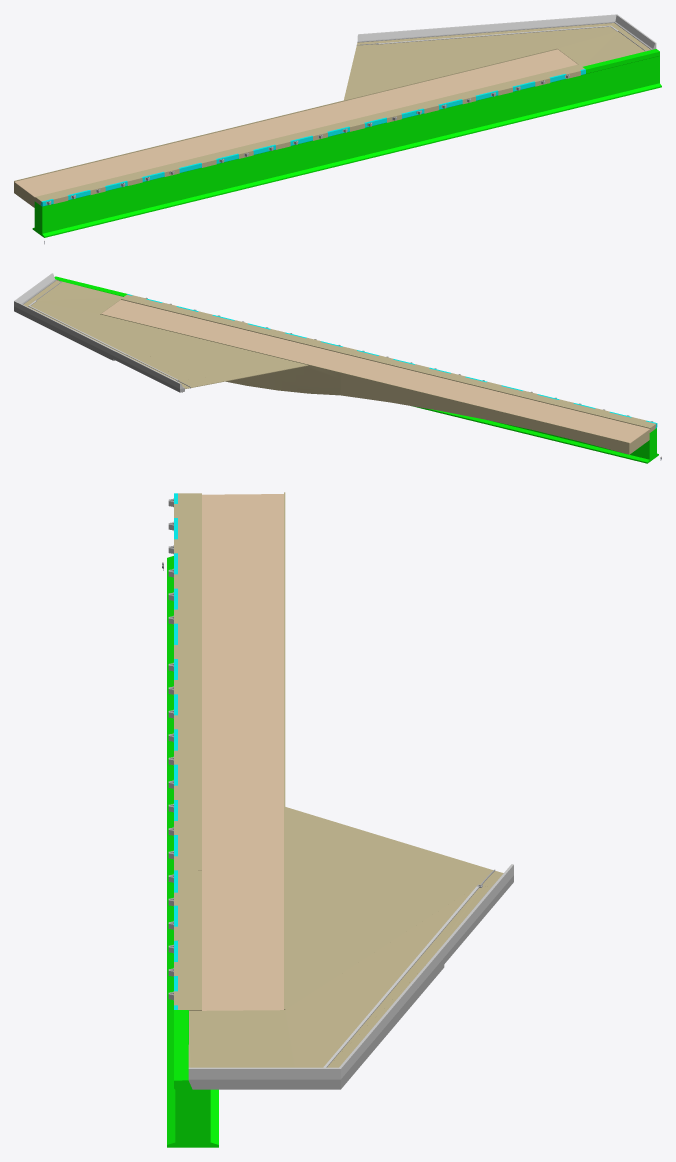
The picture shows the model from 3 angles, top to bottom: view 1: azimuth 30°, elevation 25°; view 2: azimuth 150°, elevation 25°; view 3: azimuth 270°, elevation 25°; orthographic projection. The views are drawn at different scales.
Visible parts, largest first — view 1: Geom3D (×39); view 2: Geom3D (×11); view 3: Geom3D (×14).
Part boxes in pixels (bbox=[...]): Geom3D (×39): bbox=[14, 16, 660, 235]; Geom3D (×11): bbox=[32, 282, 650, 454]; Geom3D (×14): bbox=[167, 492, 493, 1147].
Bounding box in the file's own units: 251 × 17.75 × 63.32.
